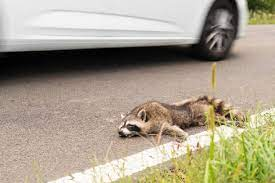raccoon: (117, 93, 245, 140)
